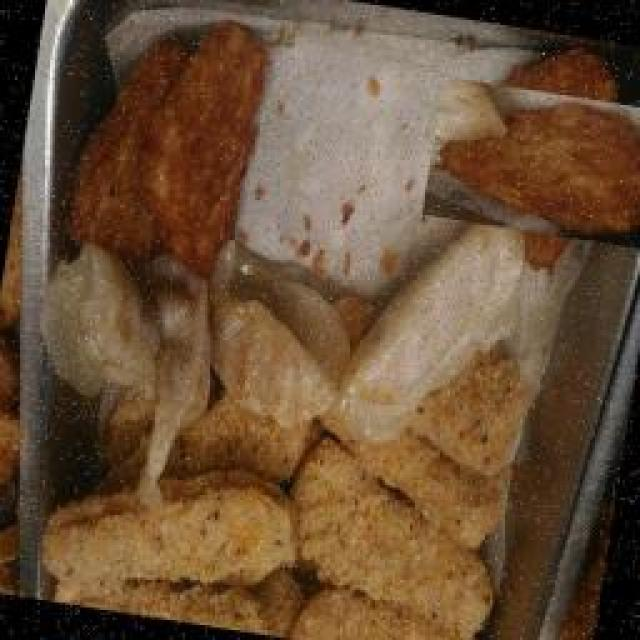Wet Waste: (40, 212, 520, 458), (58, 5, 270, 283), (440, 58, 640, 270)
